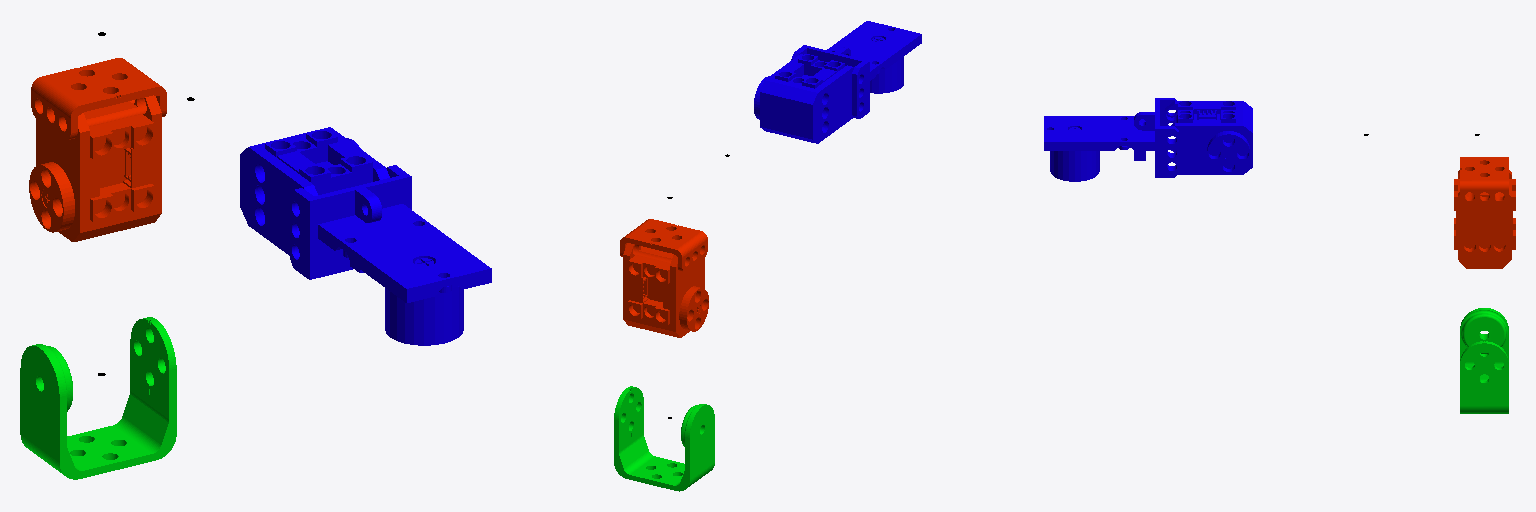
URDF robot description (arm20):
<?xml version="1.0" ?>
<!-- =================================================================================== -->
<!-- |    This document was autogenerated by xacro from arm20.urdf.xacro               | -->
<!-- |    EDITING THIS FILE BY HAND IS NOT RECOMMENDED                                 | -->
<!-- =================================================================================== -->
<robot name="arm20">
  <material name="red">
    <color rgba="0.9 0.2 0.0 1.0"/>
  </material>
  <material name="green">
    <color rgba="0.0 0.9 0.1 1.0"/>
  </material>
  <material name="blue">
    <color rgba="0.1 0.0 1.0 1.0"/>
  </material>
  <material name="orange">
    <color rgba="0.9 0.5 0.1 1.0"/>
  </material>
  <material name="black">
    <color rgba="0.0 0.0 0.0 0.5"/>
  </material>
  <material name="white">
    <color rgba="0.7 0.7 0.7 1.0"/>
  </material>
  <material name="nocolor">
    <color rgba="0.0 0.0 0.0 0.0"/>
  </material>
  <!-- ros_control plugin -->
  <gazebo>
    <plugin filename="libgazebo_ros_control.so" name="gazebo_ros_control">
      <robotNamespace>/arm20</robotNamespace>
      <robotSimType>gazebo_ros_control/DefaultRobotHWSim</robotSimType>
      <legacyModeNS>true</legacyModeNS>
    </plugin>
  </gazebo>
  <!-- world -->
  <gazebo reference="world">
    <!--<material>Gazebo/Orange</material>-->
  </gazebo>
  <!-- Link0 -->
  <gazebo reference="base_link">
    <!--<material>Gazebo/Orange</material>-->
  </gazebo>
  <!-- Link1 -->
  <gazebo reference="link_1">
    <mu1>0.2</mu1>
    <mu2>0.2</mu2>
    <!--<material>Gazebo/Orange</material>-->
  </gazebo>
  <!-- aux_Link1 -->
  <gazebo reference="aux_link1">
    <!--<material>Gazebo/Orange</material>-->
  </gazebo>
  <!-- Link2 -->
  <gazebo reference="link_2">
    <mu1>0.2</mu1>
    <mu2>0.2</mu2>
    <!--<material>Gazebo/Orange</material>-->
  </gazebo>
  <!-- aux_Link2 -->
  <gazebo reference="aux_link2">
    <!--<material>Gazebo/Orange</material>-->
  </gazebo>
  <!-- Link3 -->
  <gazebo reference="link_3">
    <mu1>0.2</mu1>
    <mu2>0.2</mu2>
    <!--<material>Gazebo/Orange</material>-->
  </gazebo>
  <!-- aux_Link3 -->
  <gazebo reference="aux_link3">
    <!--<material>Gazebo/Orange</material>-->
  </gazebo>
  <!-- Link4 -->
  <gazebo reference="link_4">
    <mu1>0.2</mu1>
    <mu2>0.2</mu2>
    <!--<material>Gazebo/Orange</material>-->
  </gazebo>
  <!-- aux_Link4 -->
  <gazebo reference="aux_link4">
    <!--<material>Gazebo/Orange</material>-->
  </gazebo>
  <!-- Link5 -->
  <gazebo reference="link_5">
    <mu1>0.2</mu1>
    <mu2>0.2</mu2>
    <!--<material>Gazebo/Orange</material>-->
  </gazebo>
  <!-- aux_Link5 -->
  <gazebo reference="aux_link5">
    <!--<material>Gazebo/Orange</material>-->
  </gazebo>
  <!-- Link6 -->
  <gazebo reference="link_6">
    <mu1>0.2</mu1>
    <mu2>0.2</mu2>
    <!--<material>Gazebo/Orange</material>-->
  </gazebo>
  <!-- aux_Link6 -->
  <gazebo reference="aux_link6">
    <!--<material>Gazebo/Orange</material>-->
  </gazebo>
  <link name="world"/>
  <joint name="fixed" type="fixed">
    <parent link="world"/>
    <child link="base_link"/>
  </joint>
  <link name="base_link">
    <inertial>
      <origin rpy="0.0 0.0 0.0" xyz="-1.28 -1.28 0.0"/>
      <mass value="1.0"/>
      <inertia ixx="1.0" ixy="0.0" ixz="0.0" iyy="1.0" iyz="0.0" izz="1.0"/>
    </inertial>
    <visual>
      <origin rpy="0.0 0.0 0.0" xyz="-1.28 -1.28 0.0"/>
      <geometry>
        <mesh filename="package://tutorial_urdf/meshes/robots/arm/base_arm.stl" scale="0.01 0.01 0.01"/>
      </geometry>
      <material name="white"/>
    </visual>
    <collision>
      <origin rpy="0.0 0.0 0.0" xyz="-1.28 -1.28 0.0"/>
      <geometry>
        <mesh filename="package://tutorial_urdf/meshes/robots/arm/base_arm.stl" scale="0.01 0.01 0.01"/>
      </geometry>
    </collision>
  </link>
  <joint name="joint_aux1" type="fixed">
    <origin rpy="0.0 0.0 0.0" xyz="0.0 0.0 0.35"/>
    <parent link="base_link"/>
    <child link="aux_link1"/>
  </joint>
  <link name="aux_link1">
    <visual>
      <geometry>
        <cylinder length="0.001" radius="0.01"/>
      </geometry>
      <material name="nocolor"/>
      <origin rpy="0.0 0.0 0.0" xyz="0.0 0.0 0.0005"/>
    </visual>
  </link>
  <joint name="joint_1" type="revolute">
    <origin rpy="0.0 0.0 0.0" xyz="0.0 0.0 0.0"/>
    <parent link="aux_link1"/>
    <child link="link_1"/>
    <axis xyz="0.0 0.0 1.0"/>
    <limit effort="0.39" lower="-1.5707963267948966" upper="1.5707963267948966" velocity="1.0"/>
  </joint>
  <link name="link_1">
    <inertial>
      <origin rpy="0.0 0.0 0.0" xyz="-1.28 -1.28 -0.35"/>
      <mass value="0.06"/>
      <inertia ixx="0.077" ixy="0.0" ixz="0.0" iyy="0.1159" iyz="0.0" izz="0.078"/>
    </inertial>
    <visual>
      <origin rpy="0.0 0.0 0.0" xyz="-1.28 -1.28 -0.35"/>
      <geometry>
        <mesh filename="package://tutorial_urdf/meshes/robots/arm/arm_link1.stl" scale="0.01 0.01 0.01"/>
      </geometry>
      <material name="green"/>
    </visual>
    <collision>
      <origin rpy="0.0 0.0 0.0" xyz="-1.28 -1.28 -0.35"/>
      <geometry>
        <mesh filename="package://tutorial_urdf/meshes/robots/arm/arm_link1.stl" scale="0.01 0.01 0.01"/>
      </geometry>
    </collision>
  </link>
  <transmission name="tran_1">
    <type>transmission_interface/SimpleTransmission</type>
    <joint name="joint_1">
      <hardwareInterface>hardware_interface/EffortJointInterface</hardwareInterface>
    </joint>
    <actuator name="motor_1">
      <hardwareInterface>hardware_interface/EffortJointInterface</hardwareInterface>
      <mechanicalReduction>238</mechanicalReduction>
    </actuator>
  </transmission>
  <joint name="joint_aux2" type="fixed">
    <origin rpy="0.0 0.0 0.0" xyz="0.0 0.0 0.235"/>
    <parent link="link_1"/>
    <child link="aux_link2"/>
  </joint>
  <link name="aux_link2">
    <visual>
      <geometry>
        <cylinder length="0.001" radius="0.01"/>
      </geometry>
      <material name="nocolor"/>
      <origin rpy="0.0 0.0 0.0" xyz="0.0 0.0 0.0005"/>
    </visual>
  </link>
  <joint name="joint_2" type="revolute">
    <origin rpy="0.0 0.0 0.0" xyz="0.0 0.0 0.0"/>
    <parent link="aux_link2"/>
    <child link="link_2"/>
    <axis xyz="1.0 0.0 0.0"/>
    <limit effort="0.39" lower="-1.5707963267948966" upper="1.5707963267948966" velocity="1.0"/>
  </joint>
  <link name="link_2">
    <inertial>
      <origin rpy="0.0 0.0 0.0" xyz="-1.28 -1.28 -0.6"/>
      <mass value="0.06"/>
      <inertia ixx="0.3006" ixy="0.0" ixz="0.0" iyy="0.33130000000000004" iyz="0.0" izz="0.0932"/>
    </inertial>
    <visual>
      <origin rpy="0.0 0.0 0.0" xyz="-1.28 -1.28 -0.6"/>
      <geometry>
        <mesh filename="package://tutorial_urdf/meshes/robots/arm/arm_link2.stl" scale="0.01 0.01 0.01"/>
      </geometry>
      <material name="blue"/>
    </visual>
    <collision>
      <origin rpy="0.0 0.0 0.0" xyz="-1.28 -1.28 -0.6"/>
      <geometry>
        <mesh filename="package://tutorial_urdf/meshes/robots/arm/arm_link2.stl" scale="0.01 0.01 0.01"/>
      </geometry>
    </collision>
  </link>
  <transmission name="tran_2">
    <type>transmission_interface/SimpleTransmission</type>
    <joint name="joint_2">
      <hardwareInterface>hardware_interface/EffortJointInterface</hardwareInterface>
    </joint>
    <actuator name="motor_2">
      <hardwareInterface>hardware_interface/EffortJointInterface</hardwareInterface>
      <mechanicalReduction>238</mechanicalReduction>
    </actuator>
  </transmission>
  <joint name="joint_aux3" type="fixed">
    <origin rpy="0.0 0.0 0.0" xyz="0.0 0.0 0.52"/>
    <parent link="link_2"/>
    <child link="aux_link3"/>
  </joint>
  <link name="aux_link3">
    <visual>
      <geometry>
        <cylinder length="0.001" radius="0.01"/>
      </geometry>
      <material name="nocolor"/>
      <origin rpy="0.0 0.0 0.0" xyz="0.0 0.0 0.0005"/>
    </visual>
  </link>
  <joint name="joint_3" type="revolute">
    <origin rpy="0.0 0.0 0.0" xyz="0.0 0.0 0.0"/>
    <parent link="aux_link3"/>
    <child link="link_3"/>
    <axis xyz="1.0 0.0 0.0"/>
    <limit effort="0.39" lower="-1.5707963267948966" upper="1.5707963267948966" velocity="1.0"/>
  </joint>
  <link name="link_3">
    <inertial>
      <origin rpy="0.0 0.0 0.0" xyz="-1.28 -1.28 -1.125"/>
      <mass value="0.06"/>
      <inertia ixx="0.1076" ixy="0.0" ixz="0.0" iyy="0.1198" iyz="0.0" izz="0.0747"/>
    </inertial>
    <visual>
      <origin rpy="0.0 0.0 0.0" xyz="-1.28 -1.28 -1.125"/>
      <geometry>
        <mesh filename="package://tutorial_urdf/meshes/robots/arm/arm_link3.stl" scale="0.01 0.01 0.01"/>
      </geometry>
      <material name="red"/>
    </visual>
    <collision>
      <origin rpy="0.0 0.0 0.0" xyz="-1.28 -1.28 -1.125"/>
      <geometry>
        <mesh filename="package://tutorial_urdf/meshes/robots/arm/arm_link3.stl" scale="0.01 0.01 0.01"/>
      </geometry>
    </collision>
  </link>
  <transmission name="tran_3">
    <type>transmission_interface/SimpleTransmission</type>
    <joint name="joint_3">
      <hardwareInterface>hardware_interface/EffortJointInterface</hardwareInterface>
    </joint>
    <actuator name="motor_3">
      <hardwareInterface>hardware_interface/EffortJointInterface</hardwareInterface>
      <mechanicalReduction>238</mechanicalReduction>
    </actuator>
  </transmission>
  <joint name="joint_aux4" type="fixed">
    <origin rpy="0.0 0.0 0.0" xyz="0.0 0.0 0.43"/>
    <parent link="link_3"/>
    <child link="aux_link4"/>
  </joint>
  <link name="aux_link4">
    <visual>
      <geometry>
        <cylinder length="0.001" radius="0.01"/>
      </geometry>
      <material name="nocolor"/>
      <origin rpy="0.0 0.0 0.0" xyz="0.0 0.0 0.0005"/>
    </visual>
  </link>
  <joint name="joint_4" type="revolute">
    <origin rpy="0.0 0.0 0.0" xyz="0.0 0.0 0.0"/>
    <parent link="aux_link4"/>
    <child link="link_4"/>
    <axis xyz="0.0 0.0 1.0"/>
    <limit effort="0.39" lower="-1.5707963267948966" upper="1.5707963267948966" velocity="1.0"/>
  </joint>
  <link name="link_4">
    <inertial>
      <origin rpy="0.0 0.0 0.0" xyz="-1.28 -1.28 -1.55"/>
      <mass value="0.06"/>
      <inertia ixx="0.2659" ixy="0.0" ixz="0.0" iyy="0.09939999999999999" iyz="0.0" izz="0.2903"/>
    </inertial>
    <visual>
      <origin rpy="0.0 0.0 0.0" xyz="-1.28 -1.28 -1.55"/>
      <geometry>
        <mesh filename="package://tutorial_urdf/meshes/robots/arm/arm_link4.stl" scale="0.01 0.01 0.01"/>
      </geometry>
      <material name="white"/>
    </visual>
    <collision>
      <origin rpy="0.0 0.0 0.0" xyz="-1.28 -1.28 -1.55"/>
      <geometry>
        <mesh filename="package://tutorial_urdf/meshes/robots/arm/arm_link4.stl" scale="0.01 0.01 0.01"/>
      </geometry>
    </collision>
  </link>
  <transmission name="tran_4">
    <type>transmission_interface/SimpleTransmission</type>
    <joint name="joint_4">
      <hardwareInterface>hardware_interface/EffortJointInterface</hardwareInterface>
    </joint>
    <actuator name="motor_4">
      <hardwareInterface>hardware_interface/EffortJointInterface</hardwareInterface>
      <mechanicalReduction>238</mechanicalReduction>
    </actuator>
  </transmission>
  <joint name="joint_aux5" type="fixed">
    <origin rpy="0.0 0.0 0.0" xyz="0.0 -0.45 0.0"/>
    <parent link="link_4"/>
    <child link="aux_link5"/>
  </joint>
  <link name="aux_link5">
    <visual>
      <geometry>
        <cylinder length="0.001" radius="0.01"/>
      </geometry>
      <material name="nocolor"/>
      <origin rpy="0.0 0.0 0.0" xyz="0.0 0.0 0.0005"/>
    </visual>
  </link>
  <joint name="joint_5" type="revolute">
    <origin rpy="0.0 0.0 0.0" xyz="0.0 0.0 0.0"/>
    <parent link="aux_link5"/>
    <child link="link_5"/>
    <axis xyz="1.0 0.0 0.0"/>
    <limit effort="0.39" lower="-1.5707963267948966" upper="1.5707963267948966" velocity="1.0"/>
  </joint>
  <link name="link_5">
    <inertial>
      <origin rpy="0.0 0.0 0.0" xyz="-1.28 -0.84 -1.55"/>
      <mass value="0.06"/>
      <inertia ixx="0.2966" ixy="0.0" ixz="0.0" iyy="0.0932" iyz="0.0" izz="0.3273"/>
    </inertial>
    <visual>
      <origin rpy="0.0 0.0 0.0" xyz="-1.28 -0.84 -1.55"/>
      <geometry>
        <mesh filename="package://tutorial_urdf/meshes/robots/arm/arm_link5.stl" scale="0.01 0.01 0.01"/>
      </geometry>
      <material name="green"/>
    </visual>
    <collision>
      <origin rpy="0.0 0.0 0.0" xyz="-1.28 -0.84 -1.55"/>
      <geometry>
        <mesh filename="package://tutorial_urdf/meshes/robots/arm/arm_link5.stl" scale="0.01 0.01 0.01"/>
      </geometry>
    </collision>
  </link>
  <transmission name="tran_5">
    <type>transmission_interface/SimpleTransmission</type>
    <joint name="joint_5">
      <hardwareInterface>hardware_interface/EffortJointInterface</hardwareInterface>
    </joint>
    <actuator name="motor_5">
      <hardwareInterface>hardware_interface/EffortJointInterface</hardwareInterface>
      <mechanicalReduction>238</mechanicalReduction>
    </actuator>
  </transmission>
  <joint name="joint_aux6" type="fixed">
    <origin rpy="0.0 0.0 0.0" xyz="0.0 -0.55 0.0"/>
    <parent link="link_5"/>
    <child link="aux_link6"/>
  </joint>
  <link name="aux_link6">
    <visual>
      <geometry>
        <cylinder length="0.001" radius="0.01"/>
      </geometry>
      <material name="nocolor"/>
      <origin rpy="0.0 0.0 0.0" xyz="0.0 0.0 0.0005"/>
    </visual>
  </link>
  <joint name="joint_6" type="revolute">
    <origin rpy="0.0 0.0 0.0" xyz="0.0 0.0 0.0"/>
    <parent link="aux_link6"/>
    <child link="link_6"/>
    <axis xyz="1.0 0.0 0.0"/>
    <limit effort="0.39" lower="-1.5707963267948966" upper="1.5707963267948966" velocity="1.0"/>
  </joint>
  <link name="link_6">
    <inertial>
      <origin rpy="0.0 0.0 0.0" xyz="-1.28 -0.305 -1.55"/>
      <mass value="0.09"/>
      <inertia ixx="0.5962" ixy="0.0" ixz="0.0" iyy="0.1257" iyz="0.0" izz="0.6081"/>
    </inertial>
    <visual>
      <origin rpy="0.0 0.0 0.0" xyz="-1.28 -0.305 -1.55"/>
      <geometry>
        <mesh filename="package://tutorial_urdf/meshes/robots/arm/arm_link6.stl" scale="0.01 0.01 0.01"/>
      </geometry>
      <material name="blue"/>
    </visual>
    <collision>
      <origin rpy="0.0 0.0 0.0" xyz="-1.28 -0.305 -1.55"/>
      <geometry>
        <mesh filename="package://tutorial_urdf/meshes/robots/arm/arm_link6.stl" scale="0.01 0.01 0.01"/>
      </geometry>
    </collision>
  </link>
  <transmission name="tran_6">
    <type>transmission_interface/SimpleTransmission</type>
    <joint name="joint_6">
      <hardwareInterface>hardware_interface/EffortJointInterface</hardwareInterface>
    </joint>
    <actuator name="motor_6">
      <hardwareInterface>hardware_interface/EffortJointInterface</hardwareInterface>
      <mechanicalReduction>238</mechanicalReduction>
    </actuator>
  </transmission>
</robot>

--- What the picture shows (computed from the rendered views, not written in the file) ---
The picture shows the robot from 3 angles, left to right: view 1: azimuth 30°, elevation 25°; view 2: azimuth 150°, elevation 25°; view 3: azimuth 270°, elevation 25°; orthographic projection.
Model arm20 with 14 links and 13 joints (6 revolute, 7 fixed), rooted at world, posed every joint at zero.
Visible links, largest first — view 1: link_6, link_3, link_1; view 2: link_6, link_3, link_1; view 3: link_6, link_3, link_1.
Link boxes in pixels (<box>): link_6: <box>240,127,491,345</box>; link_3: <box>29,58,166,241</box>; link_1: <box>20,317,176,479</box>; link_6: <box>754,21,921,143</box>; link_3: <box>620,219,708,337</box>; link_1: <box>614,386,714,491</box>; link_6: <box>1044,98,1252,181</box>; link_3: <box>1454,157,1515,268</box>; link_1: <box>1460,308,1508,413</box>.
Size in the robot's own frame: 0.342 by 1.91 by 1.3 metres.
3 mesh visuals loaded from 7 distinct referenced files (3 ASCII STL); not drawn: 4 (reference not matched to a file when rendering).